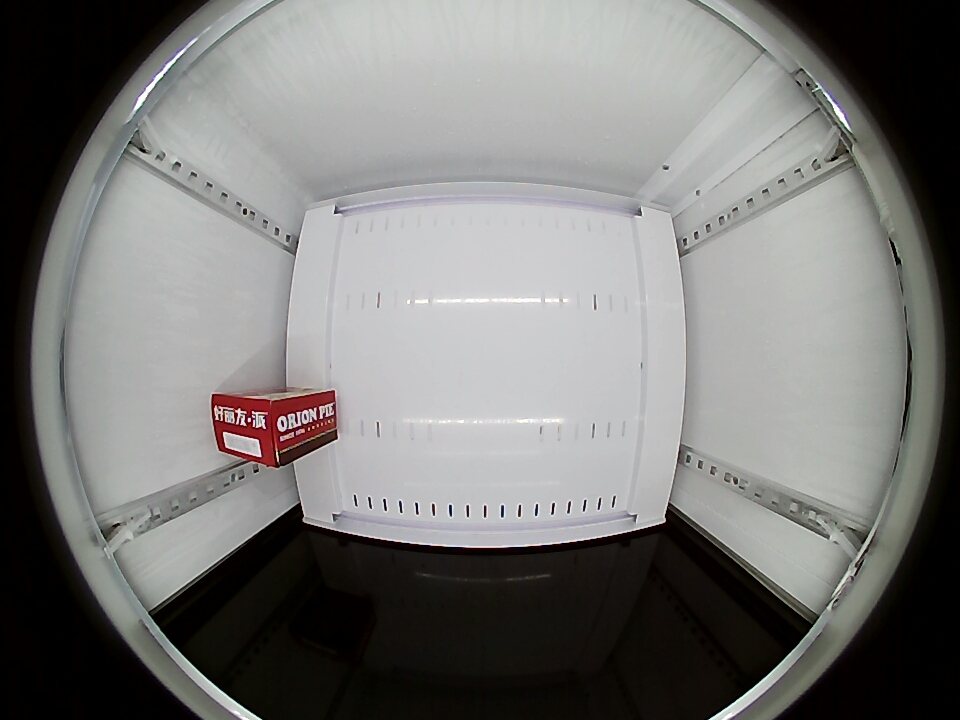haoliyou: (211, 392, 300, 467)
